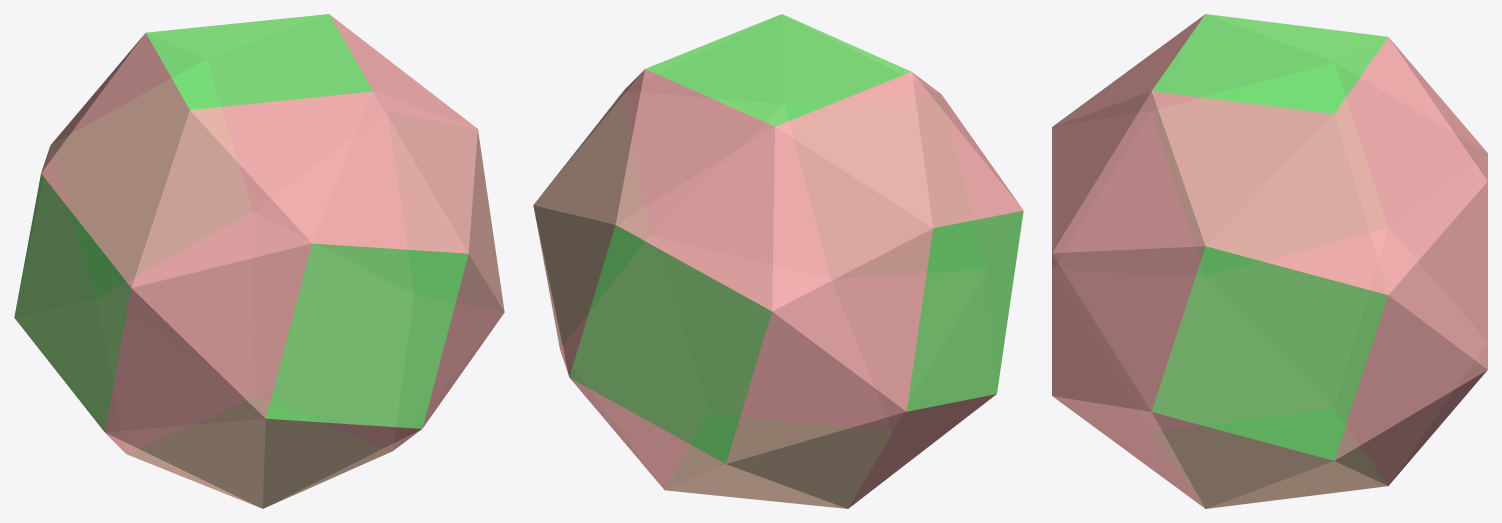
File: SnubCubeA.obj
3 views of the same model, side by side, from view 1: azimuth 30°, elevation 25°; view 2: azimuth 150°, elevation 25°; view 3: azimuth 270°, elevation 25° (orthographic).
Bounding box in the file's own units: 2.29 × 2.29 × 2.29.
